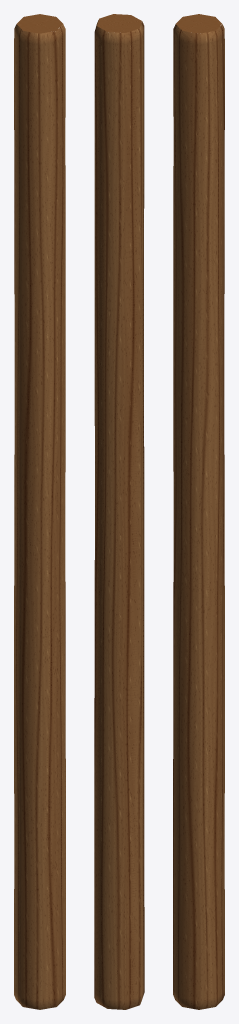
Rendered from cairnpine_shaft.glb.
The picture shows the model from 3 angles, left to right: view 1: azimuth 90°, elevation 25°; view 2: azimuth 150°, elevation 25°; view 3: azimuth 270°, elevation 25°; orthographic projection.
Parts seen in each view (by area): view 1: oak worked longitudinal grain, oak endgrain on both sawn ends; view 2: oak worked longitudinal grain, oak endgrain on both sawn ends; view 3: oak worked longitudinal grain, oak endgrain on both sawn ends.
Boxes of the visible parts, x1,y1,x2,y2 form: oak worked longitudinal grain: (14, 24, 65, 1009); oak endgrain on both sawn ends: (17, 14, 62, 33); oak worked longitudinal grain: (94, 20, 144, 1009); oak endgrain on both sawn ends: (97, 14, 141, 32); oak worked longitudinal grain: (173, 24, 224, 1009); oak endgrain on both sawn ends: (176, 14, 221, 33).
Bounding box in the file's own units: 0.0542 × 1.12 × 0.0541.
Materials: 2 (2 with a texture image).
